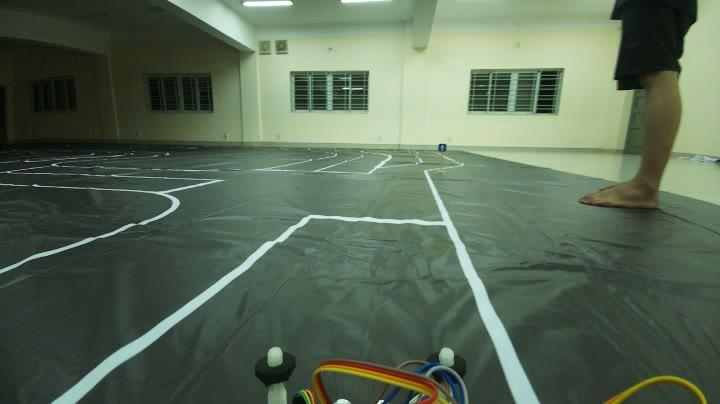onewayroad: (434, 142, 450, 156)
